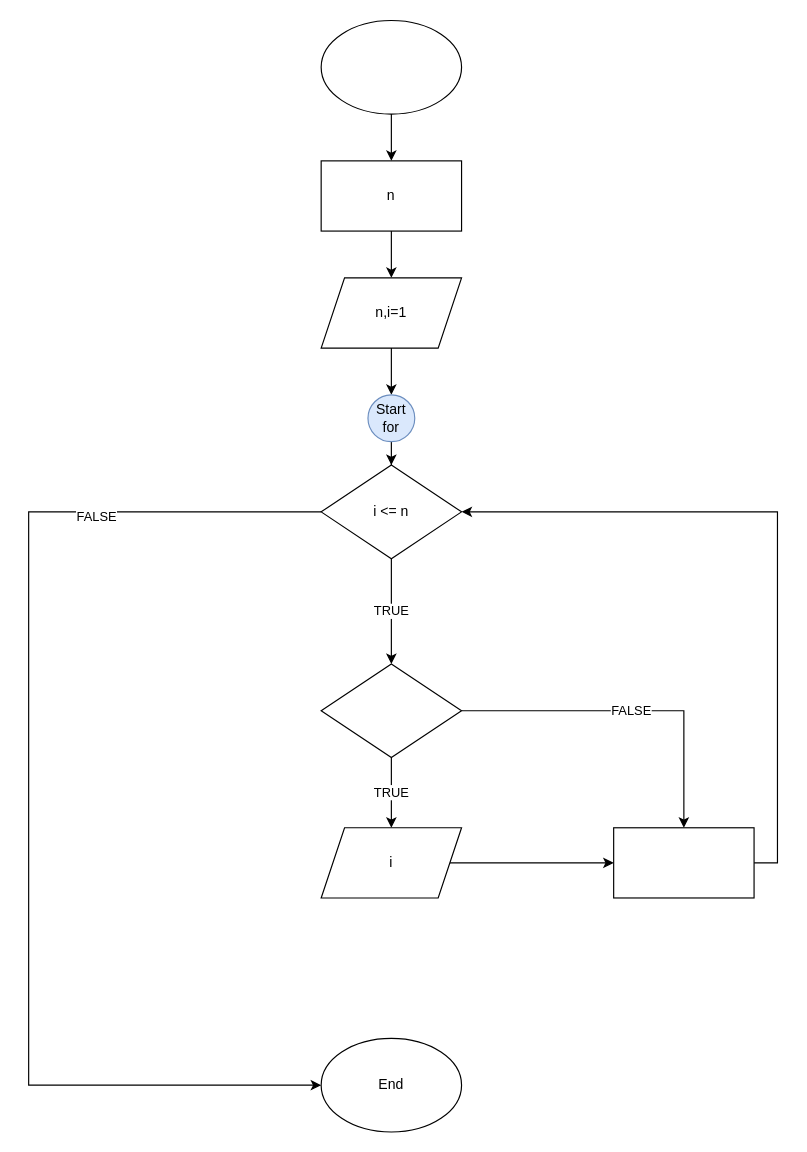
Some shapes in this 807 by 1152 pixel diagram are drawn without their labels. Here are the shapes that lost their labels. From the top down, the centre of each, then its label:
At [391,66]: "Start".
At [391,710]: "n % i == 0".
At [683,862]: "i++".
